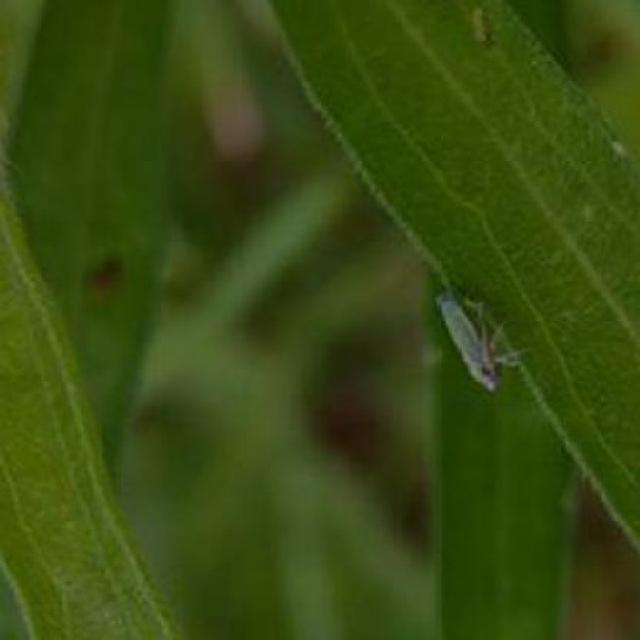green-leafhopper: (434, 283, 514, 395)
